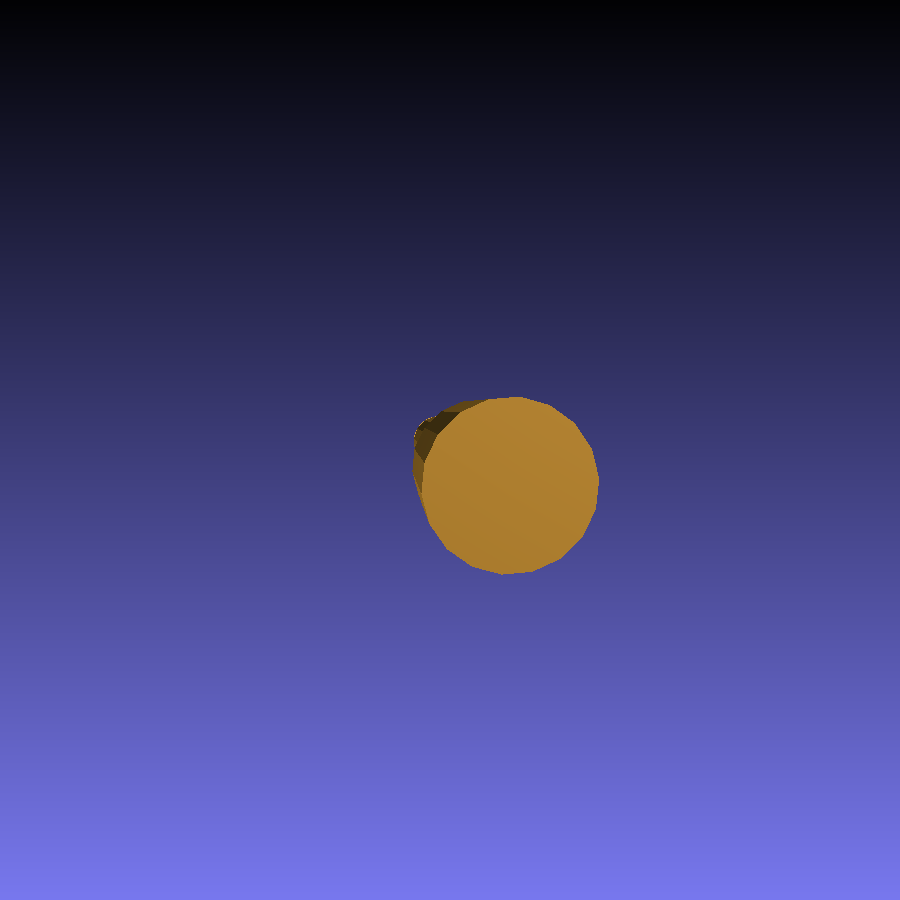cargo_g: (410, 394, 598, 575)
